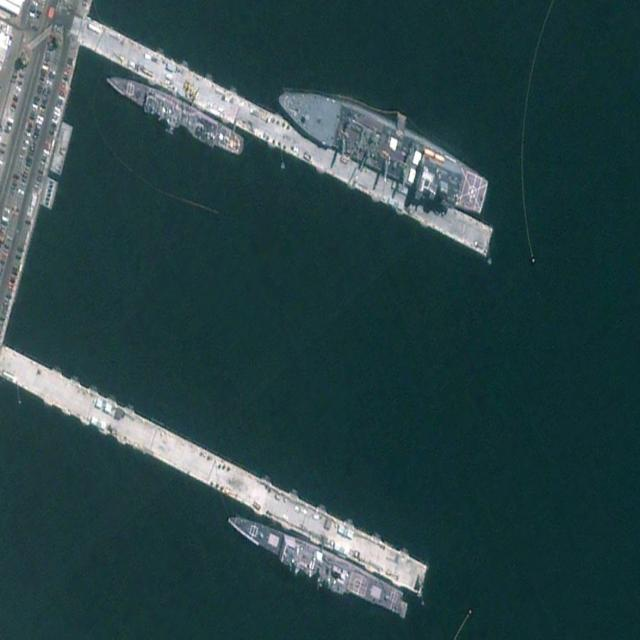Commander: (272, 70, 492, 221)
Cruiser: (223, 506, 405, 621)
Frigate: (102, 66, 246, 162)
